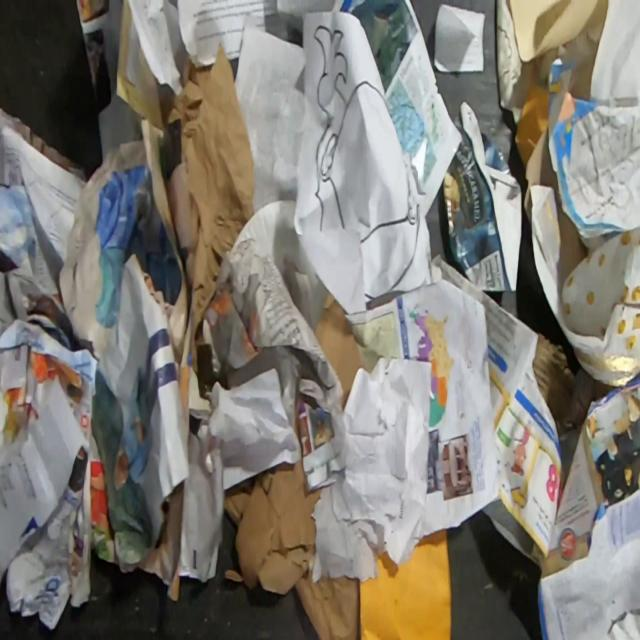cardboard: (222, 422, 359, 640), (442, 99, 523, 292), (532, 330, 618, 437), (312, 288, 366, 413), (523, 128, 560, 226)
